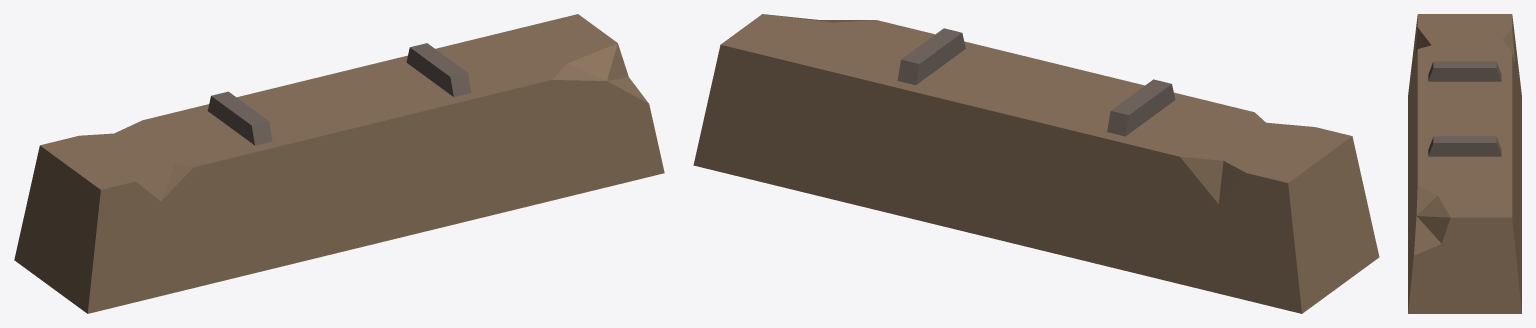
The model's file is LP_PostApoc_UrbanBenchA.fbx.
3 renders of one model, left to right at view 1: azimuth 30°, elevation 25°; view 2: azimuth 150°, elevation 25°; view 3: azimuth 270°, elevation 25°, orthographic. The views are drawn at different scales.
Visible parts, largest first — view 1: UrbanBenchA; view 2: UrbanBenchA; view 3: UrbanBenchA.
Part boxes in pixels (x1,y1,x2,y2): UrbanBenchA: [14, 14, 664, 313]; UrbanBenchA: [693, 14, 1379, 313]; UrbanBenchA: [1408, 14, 1521, 313].
Size of the model in its own units: 226 by 49.48 by 49.74.
